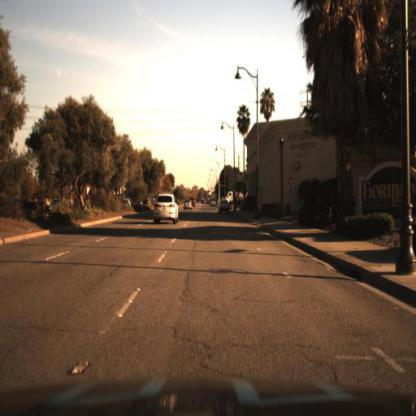car: (148, 184, 183, 233), (217, 194, 235, 217), (179, 195, 197, 216), (121, 197, 134, 215)
truck: (226, 190, 248, 213)
